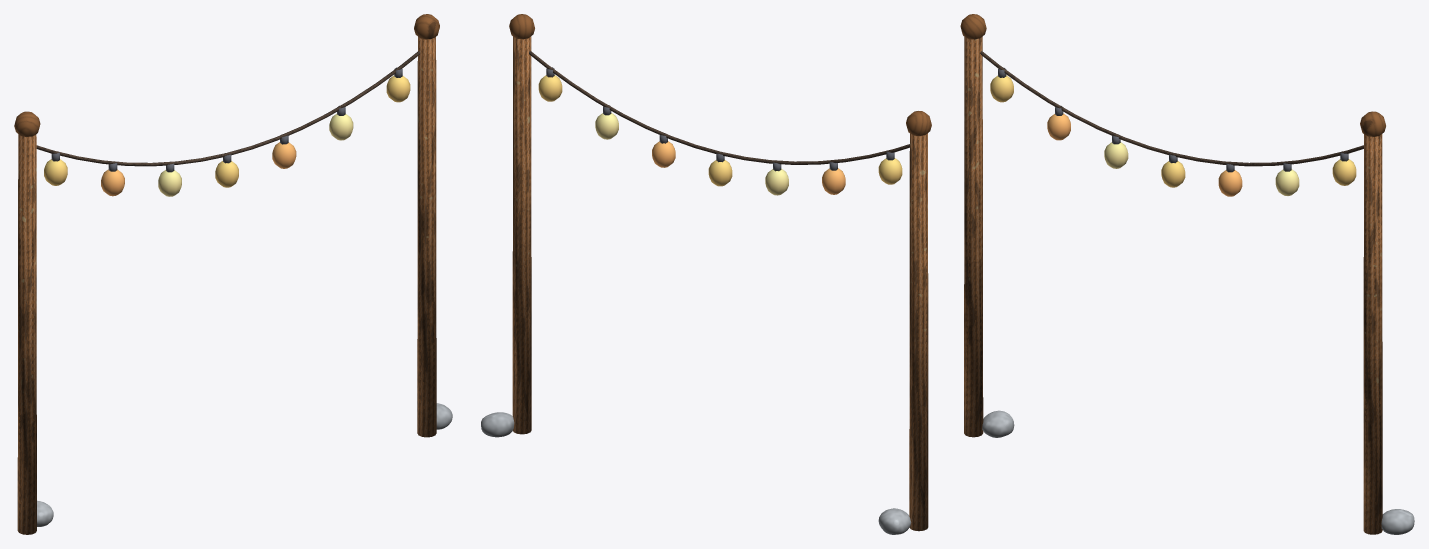
The model's file is garland_lights.glb.
3 renders of one model, left to right at view 1: azimuth 30°, elevation 25°; view 2: azimuth 150°, elevation 25°; view 3: azimuth 330°, elevation 25°, orthographic.
Parts seen in each view (by area): view 1: GarlandLights; view 2: GarlandLights; view 3: GarlandLights.
Part boxes in pixels (box(x1,y1,x2,y2)): GarlandLights: box(14, 14, 452, 534); GarlandLights: box(481, 14, 931, 534); GarlandLights: box(960, 14, 1414, 534).
Size of the model in its own units: 2.66 by 2.42 by 0.2395.
1 material, 1 textured.
